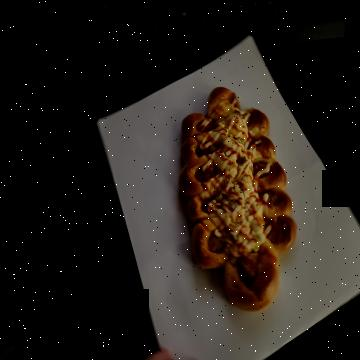pizza_bread: (179, 93, 299, 310)
